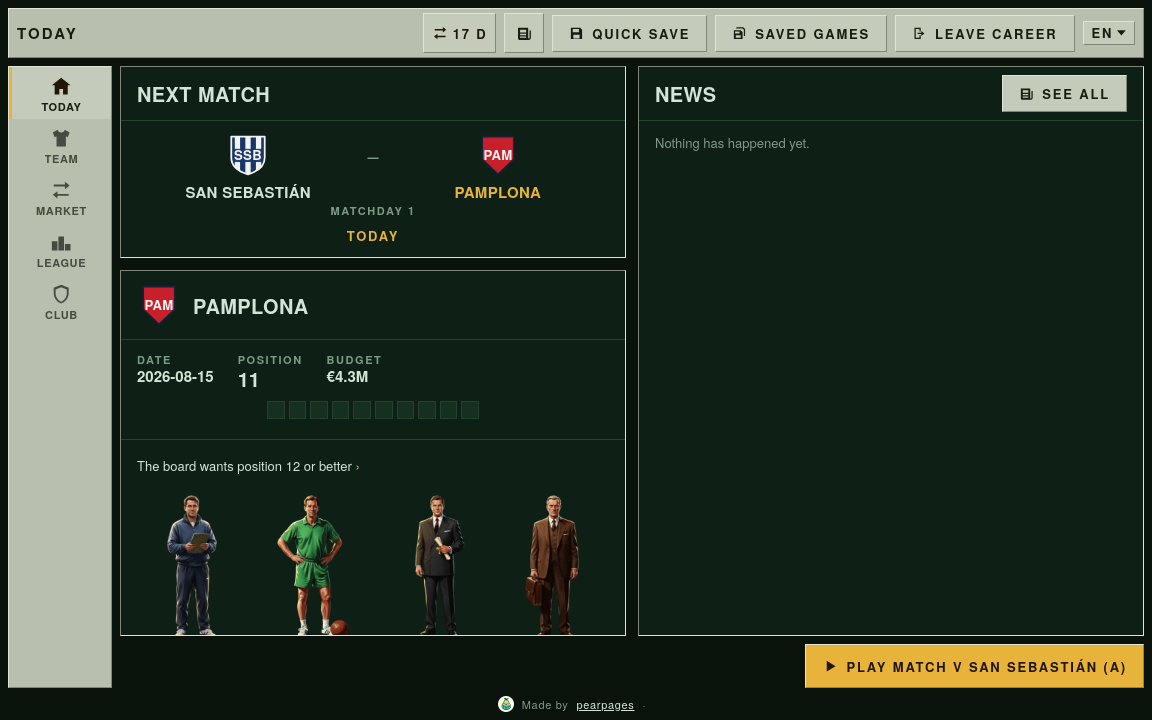
Test: the team sheet › opens a starter’s card, and comes back to the lineup
Click the button "Team": (60, 145) 9,119 -> 111,171
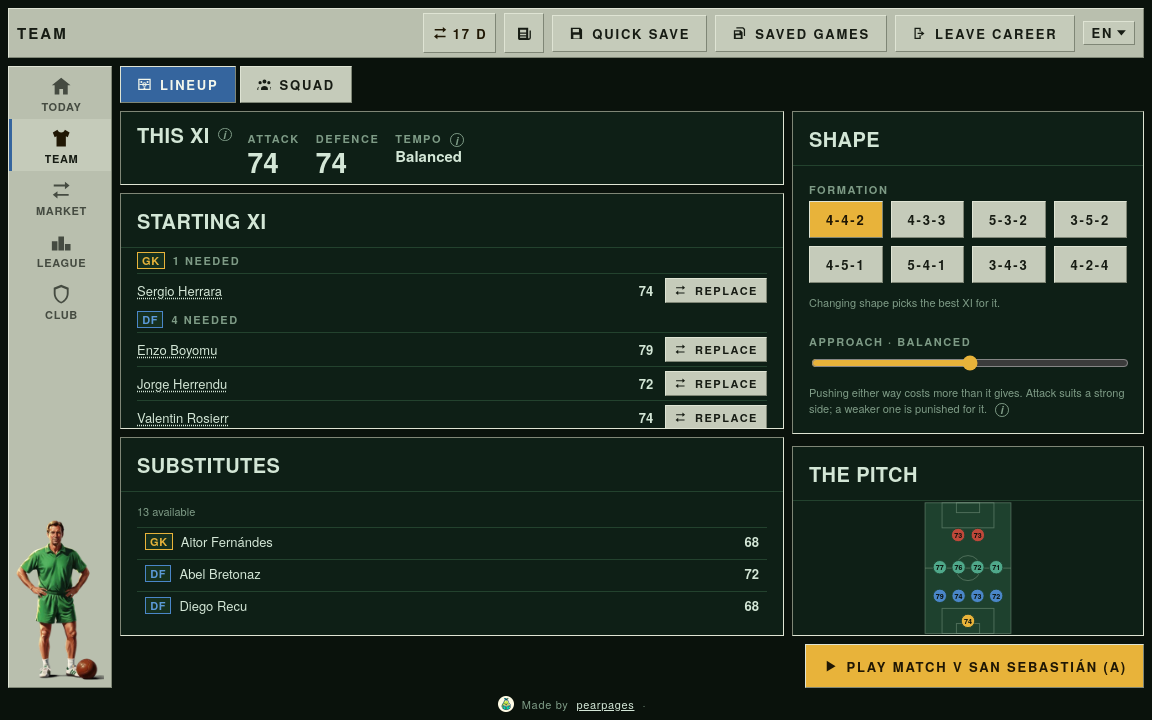
Click the button "Sergio Herrara": (180, 290) 137,281 -> 601,300
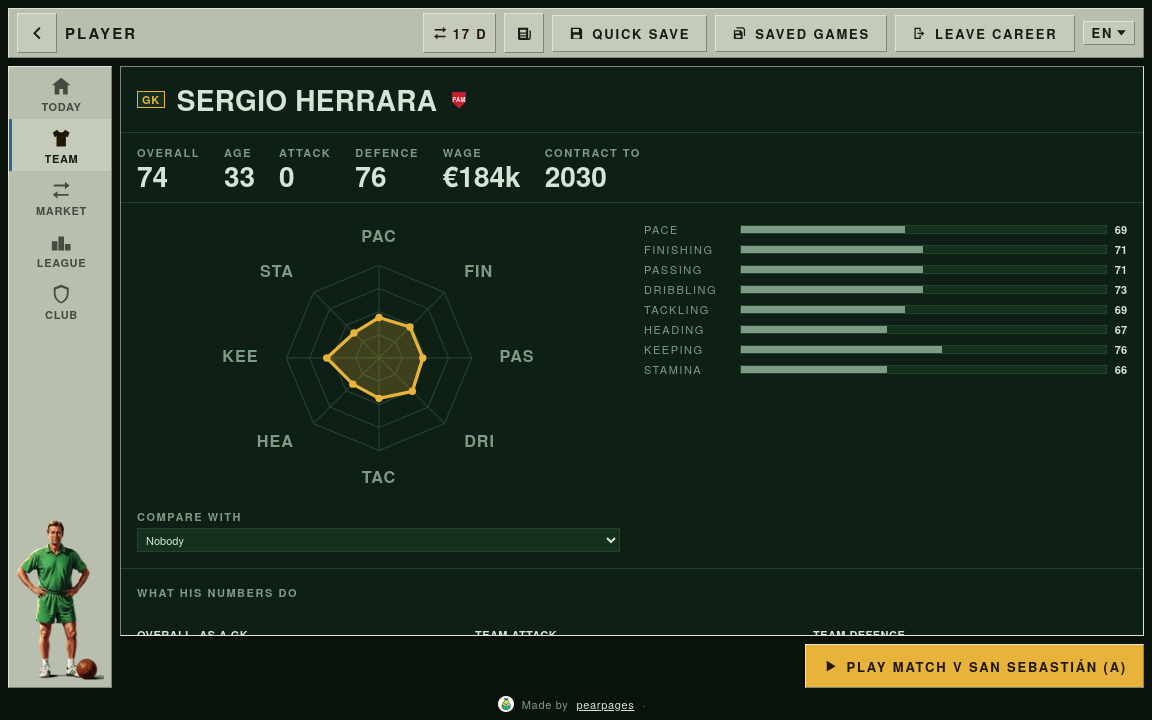
Expected: the heading "Sergio Herrara" is shown, 177,79 -> 437,120
Click the button named "Back": (37, 33) 17,13 -> 57,53
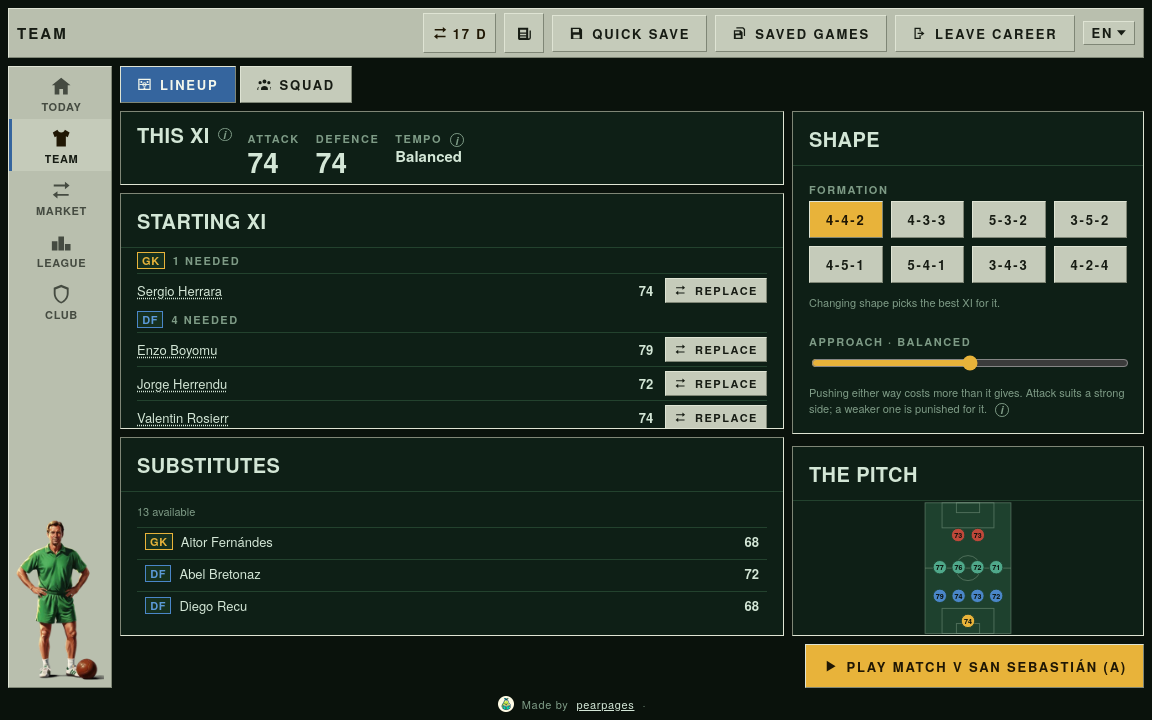
Expected: the heading "Starting XI" is shown, 121,194 -> 783,248
